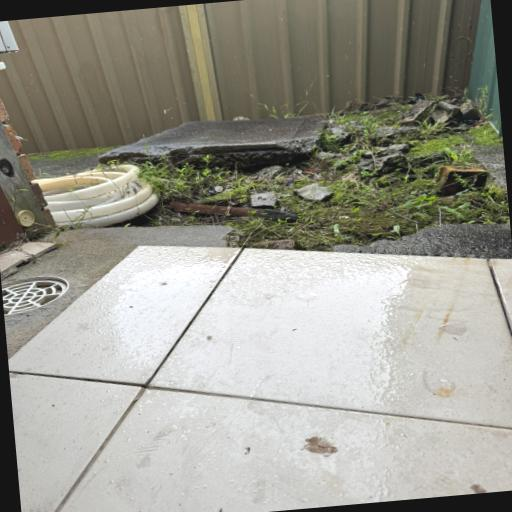gap: (201, 224, 512, 258)
